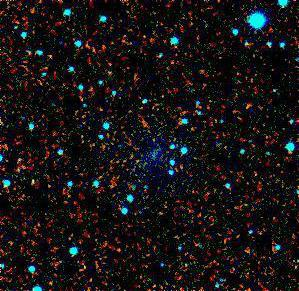star: (36, 38, 66, 68)
